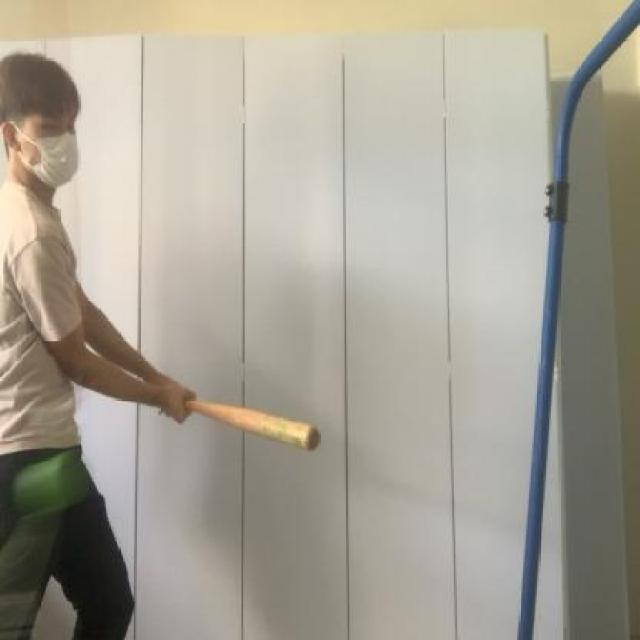baseball: (18, 424, 102, 514)
